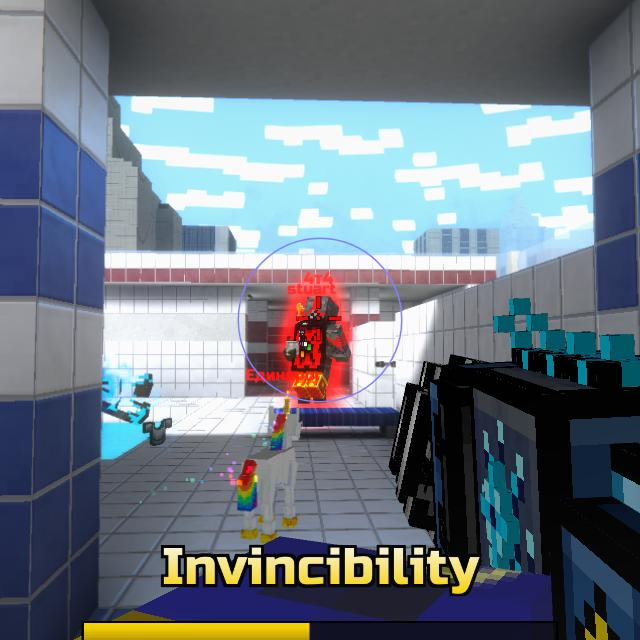Enemy: (290, 298, 353, 403)
